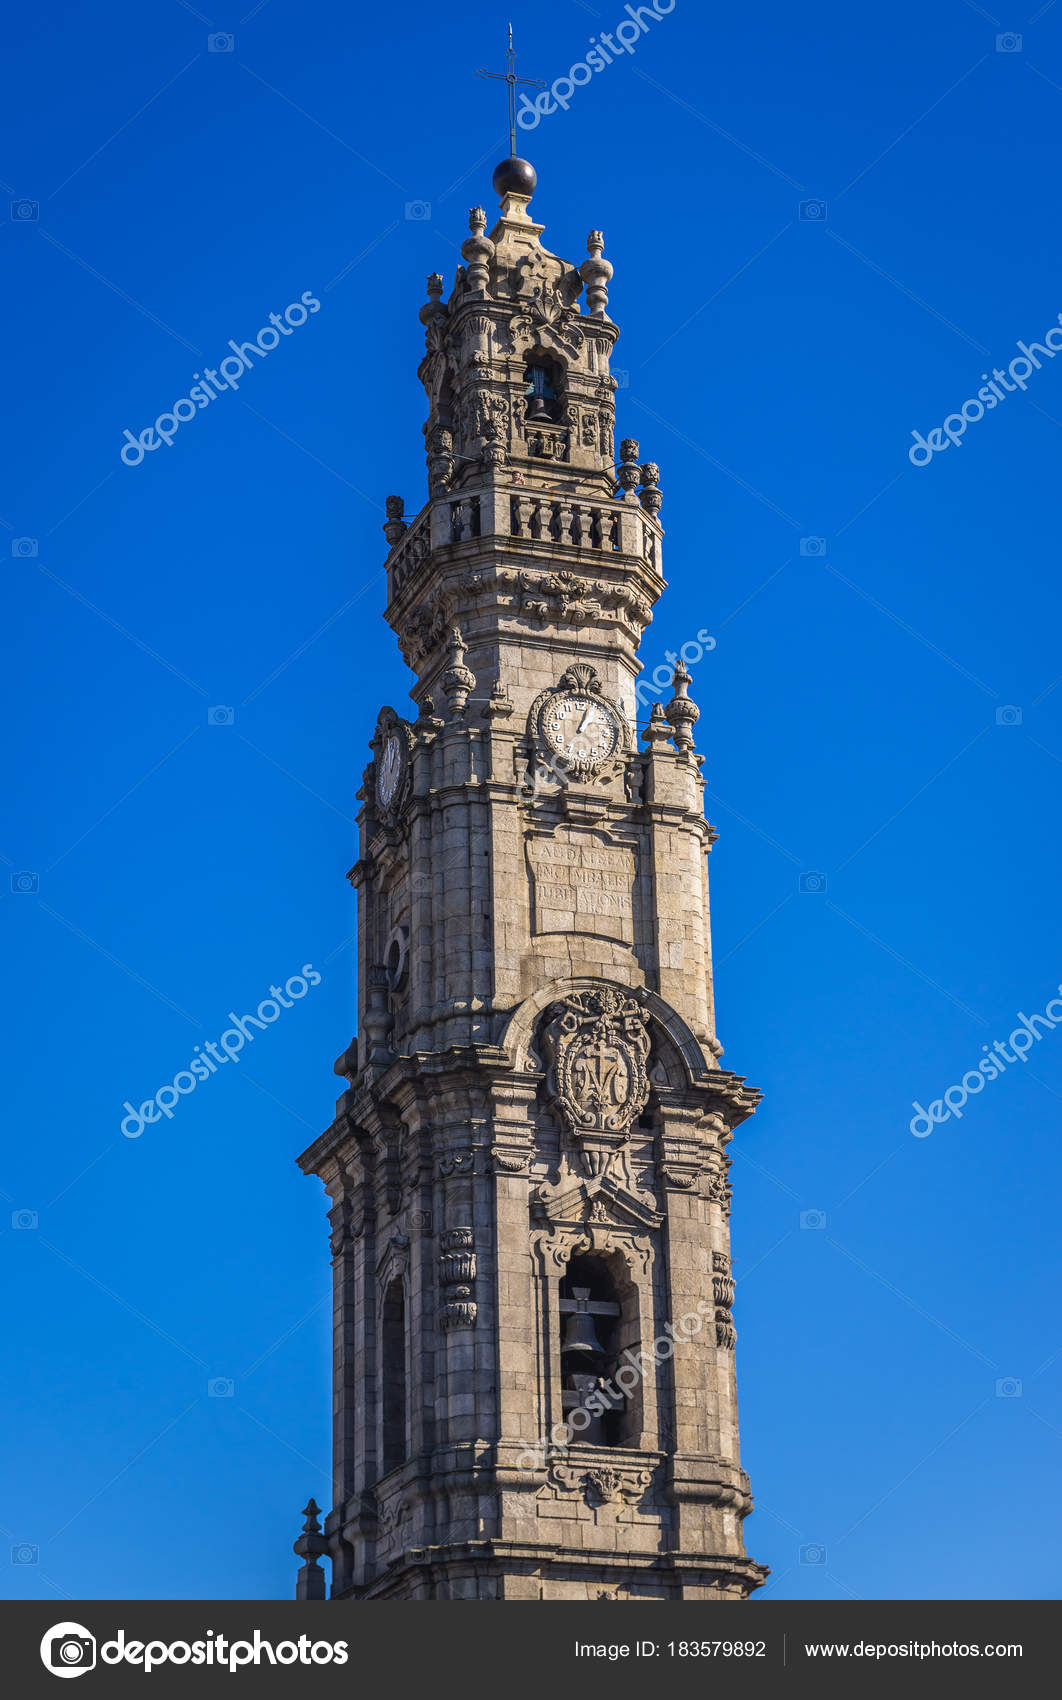clerigos: (291, 20, 771, 1598)
